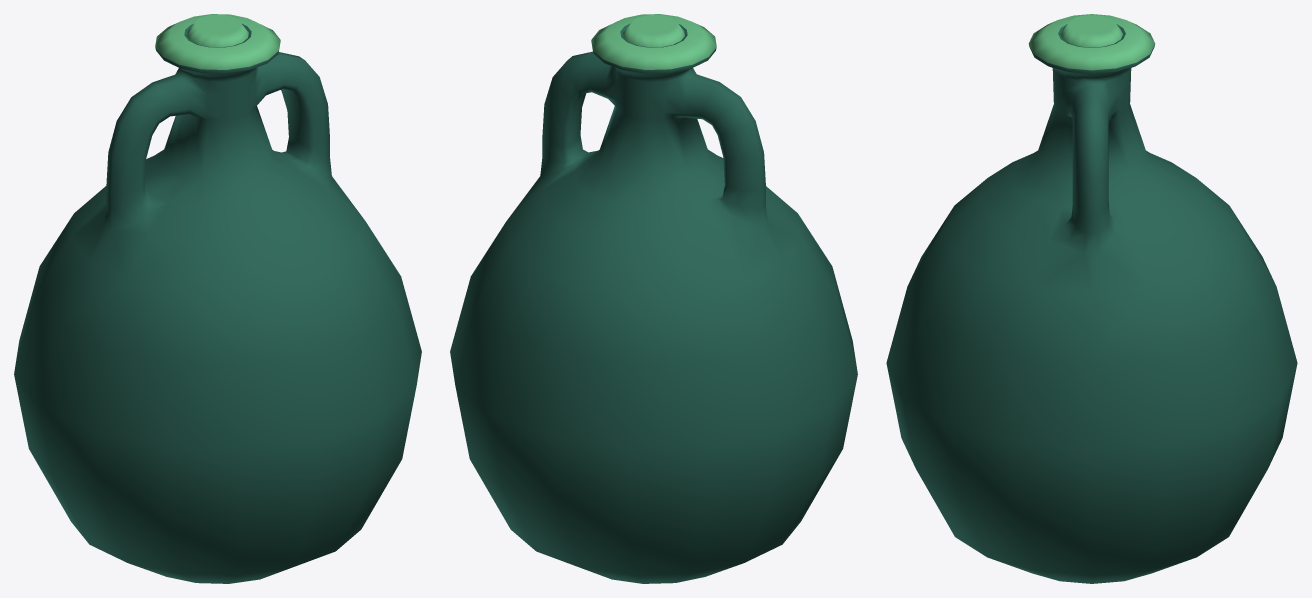
File: SM_Vase2.fbx
3 views of the same model, side by side, from view 1: azimuth 30°, elevation 25°; view 2: azimuth 150°, elevation 25°; view 3: azimuth 270°, elevation 25° (orthographic).
Parts seen in each view (by area): view 1: SM_Vase_2; view 2: SM_Vase_2; view 3: SM_Vase_2.
Part boxes in pixels (left/top/right/bottom): SM_Vase_2: left=14, top=14, right=421, bottom=583; SM_Vase_2: left=450, top=14, right=857, bottom=583; SM_Vase_2: left=886, top=14, right=1297, bottom=583.
Size of the model in its own units: 40.53 by 59.03 by 40.53.
